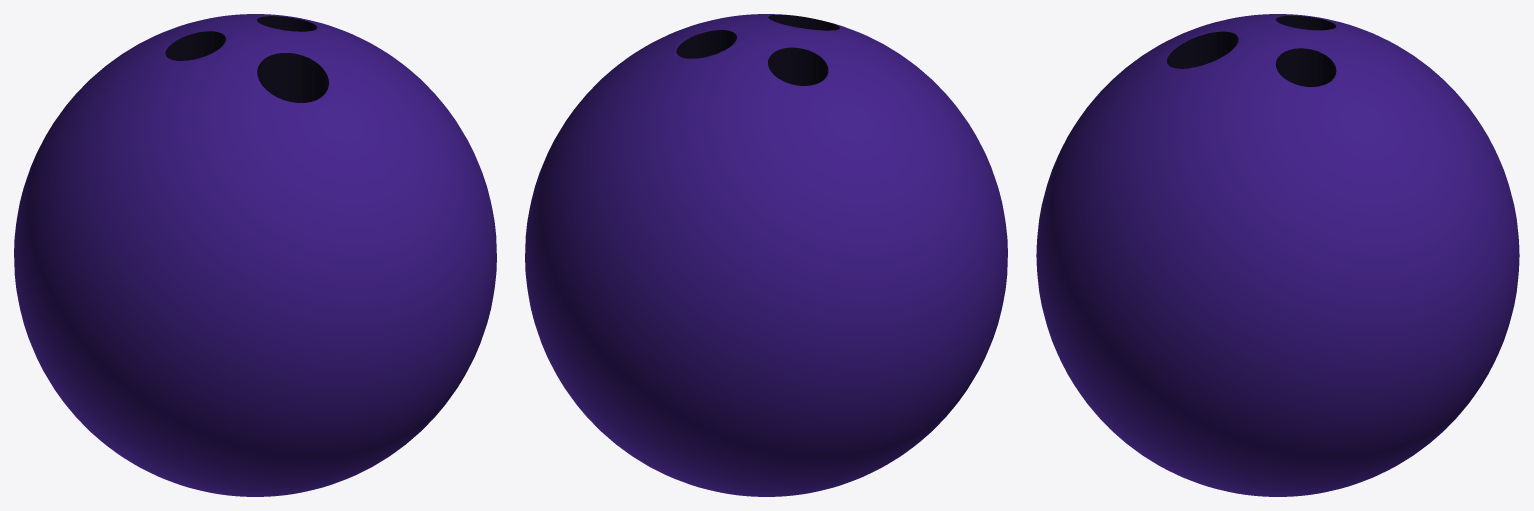
File: neon-pearl-ball-runtime-v1.glb
3 views of the same model, side by side, from view 1: azimuth 30°, elevation 25°; view 2: azimuth 150°, elevation 25°; view 3: azimuth 270°, elevation 25° (orthographic).
Visible parts, largest first — view 1: PearlBall; view 2: PearlBall; view 3: PearlBall.
Part boxes in pixels (left/top/right/bottom): PearlBall: left=14, top=14, right=496, bottom=496; PearlBall: left=525, top=14, right=1007, bottom=496; PearlBall: left=1036, top=14, right=1519, bottom=496.
Size of the model in its own units: 0.43 by 0.43 by 0.43.
